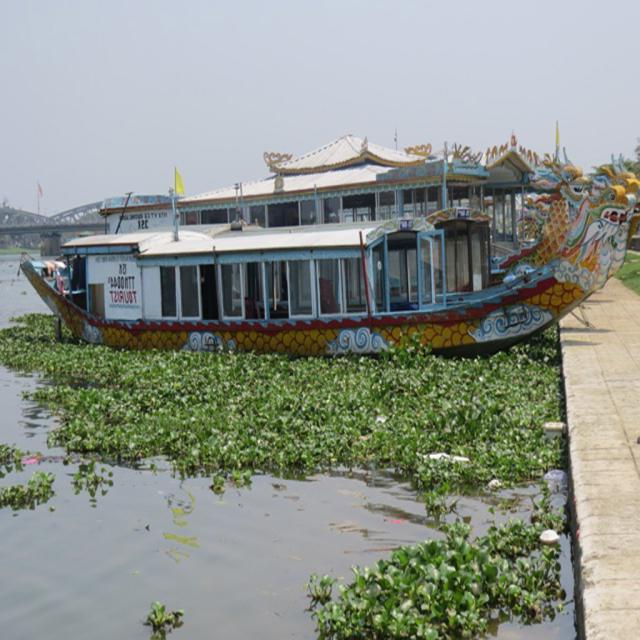Hyacinth: (33, 350, 554, 496), (296, 514, 561, 640), (0, 316, 53, 373), (65, 464, 124, 506), (0, 474, 53, 518), (139, 599, 192, 640), (0, 443, 30, 476), (206, 475, 241, 496)
boat: (32, 186, 639, 348)
